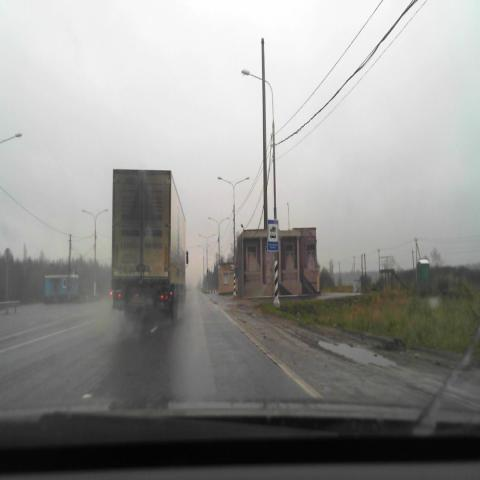7_14: (267, 219, 279, 252)
